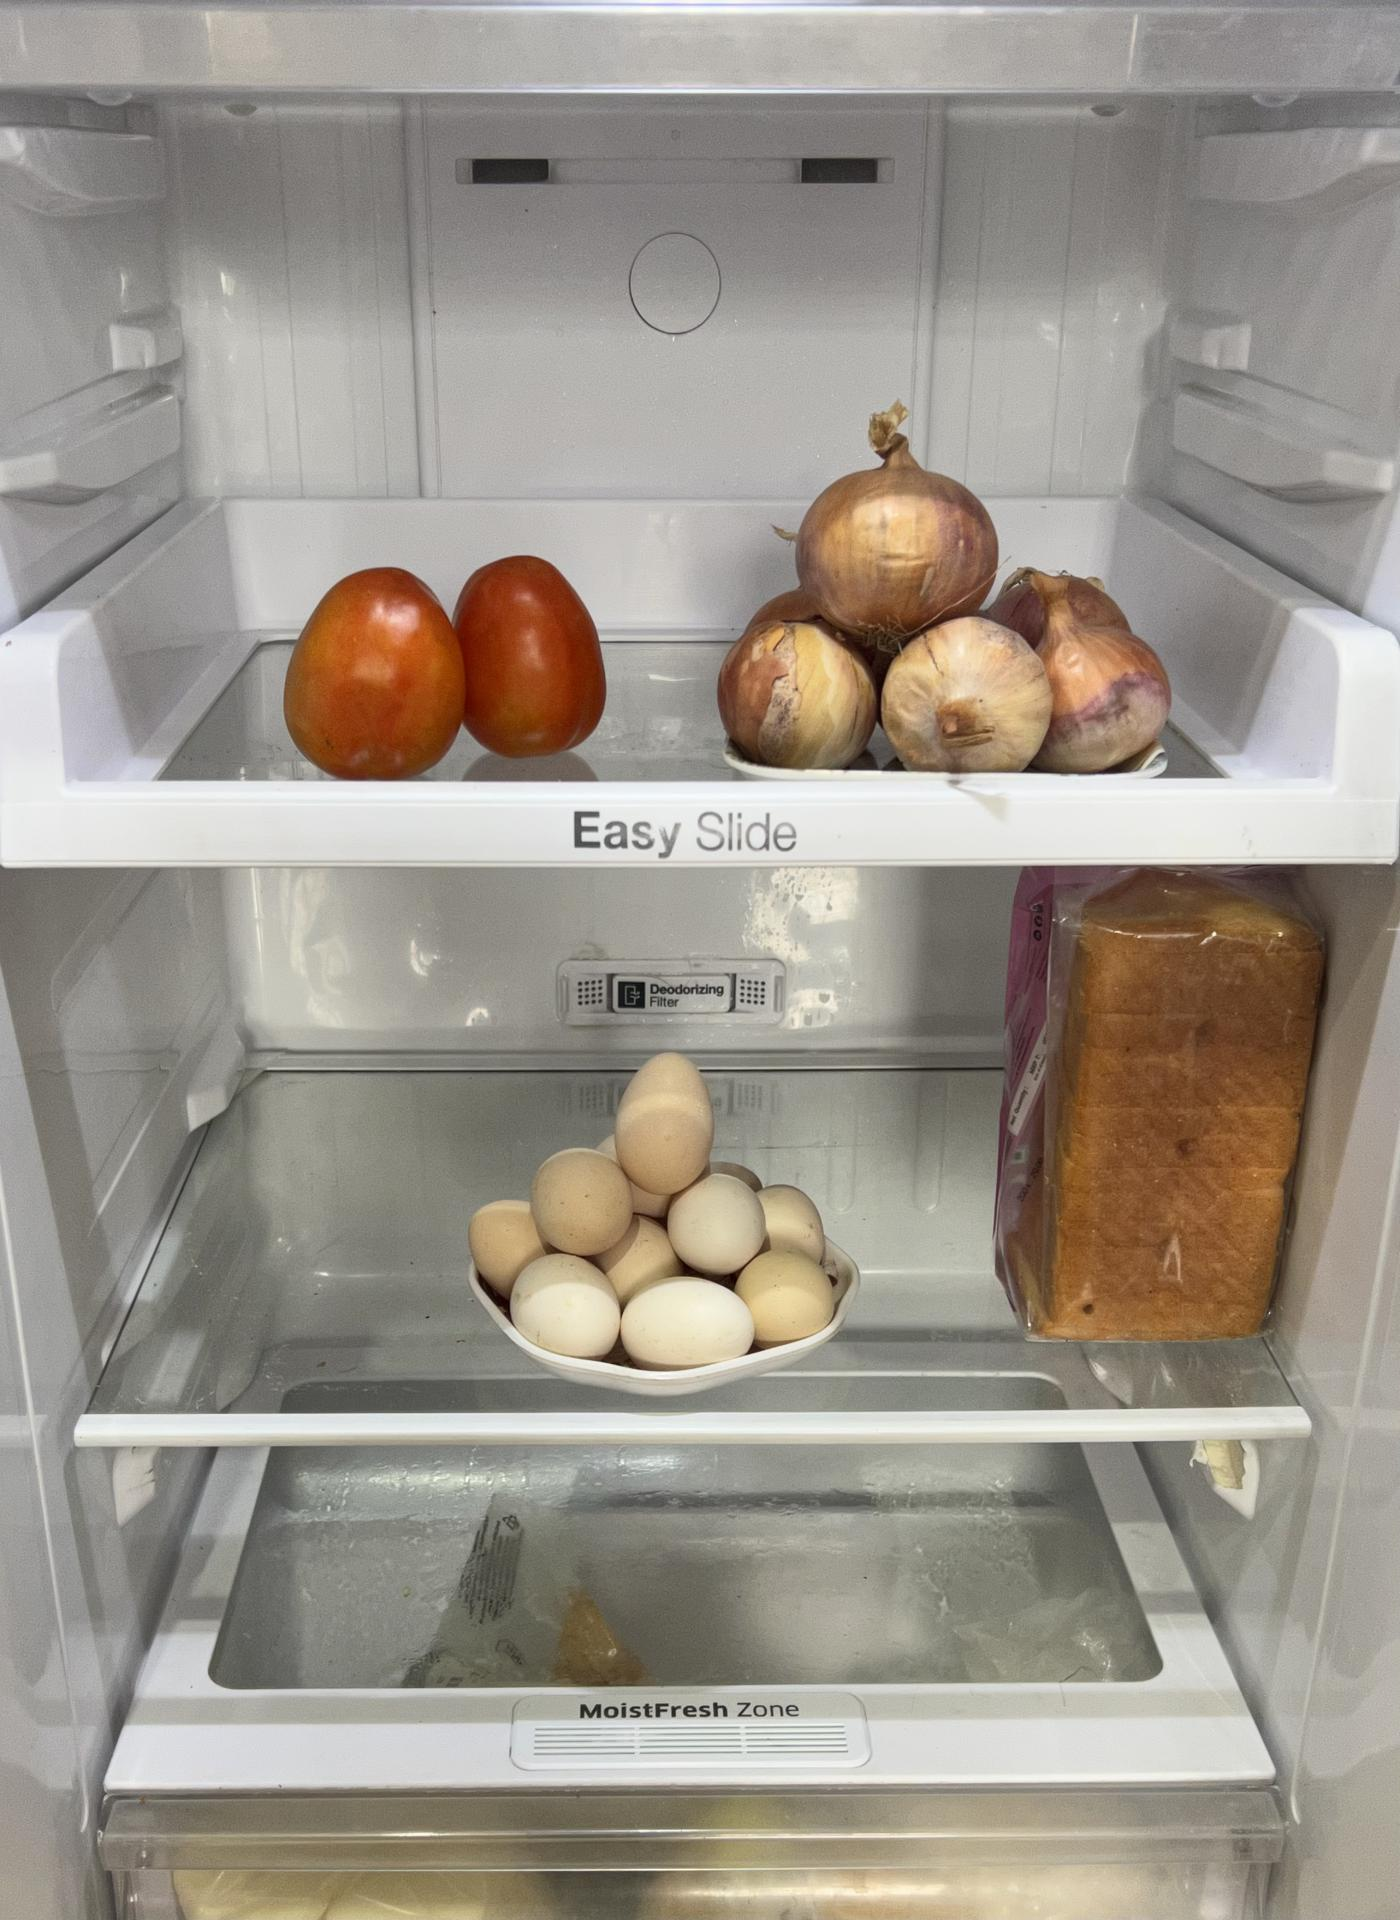bread: (1002, 871, 1285, 1349)
egg: (480, 1052, 830, 1374)
onion: (725, 452, 1181, 765)
tomato: (280, 549, 608, 786)
